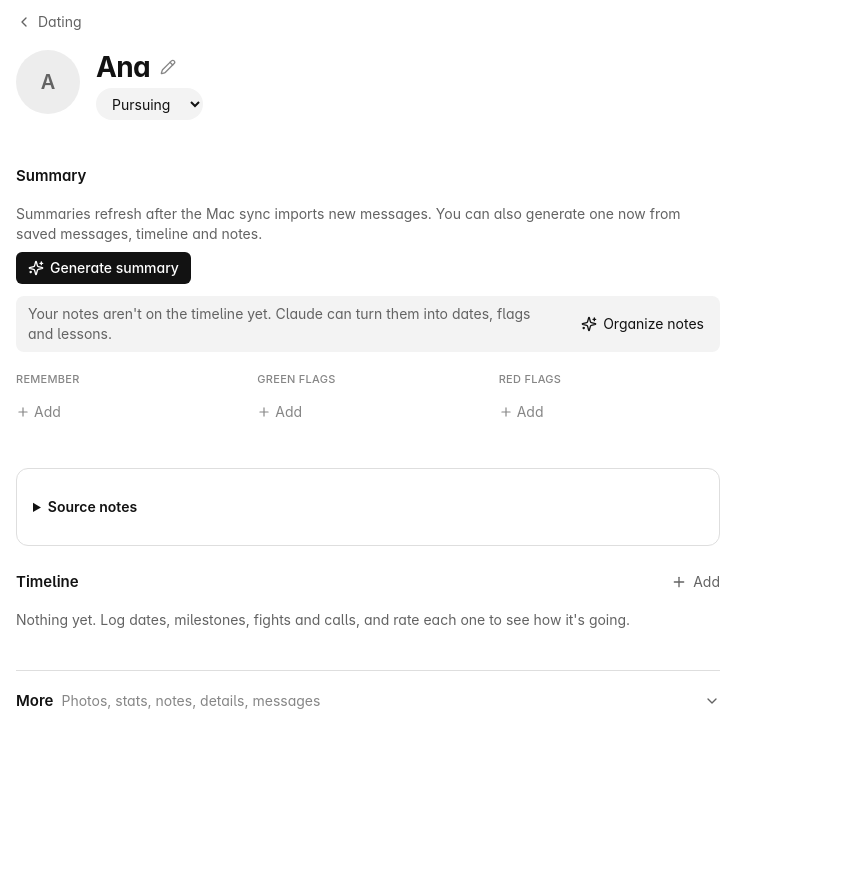
Test: dating request recovery › retries organizing after a rejected request
Click the button "Organize notes" at [643, 324], box [571,308,714,340]
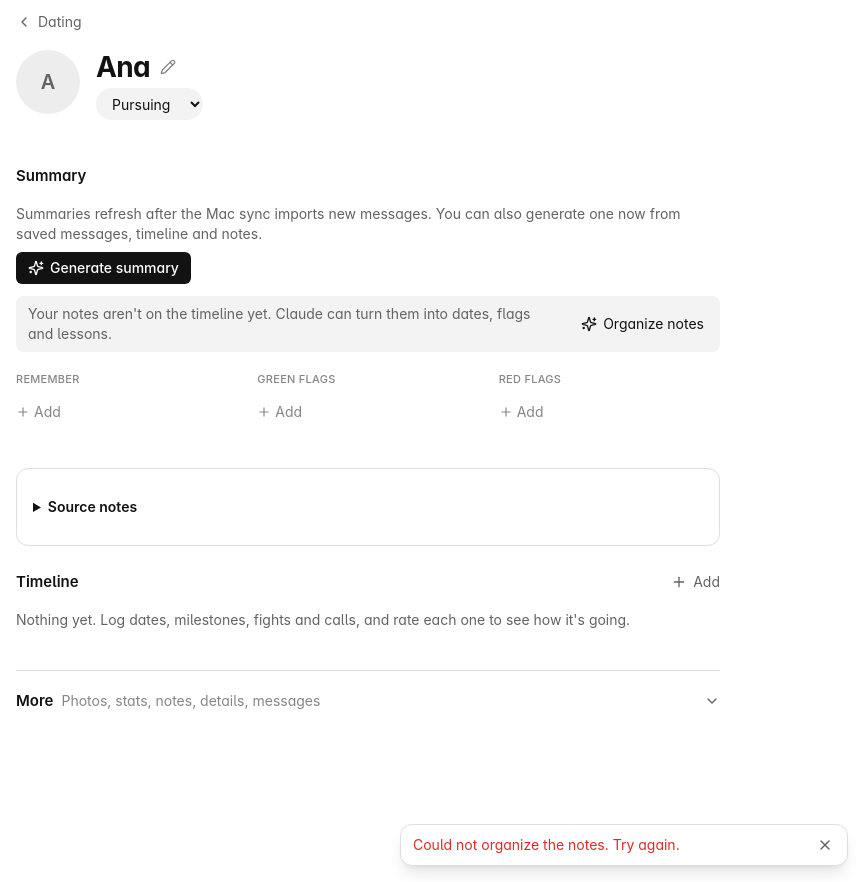
Result: the message "Could not organize the notes. Try again." is shown at [400,824,848,866]
Click the button "Organize notes" at [643, 324], box [571,308,714,340]
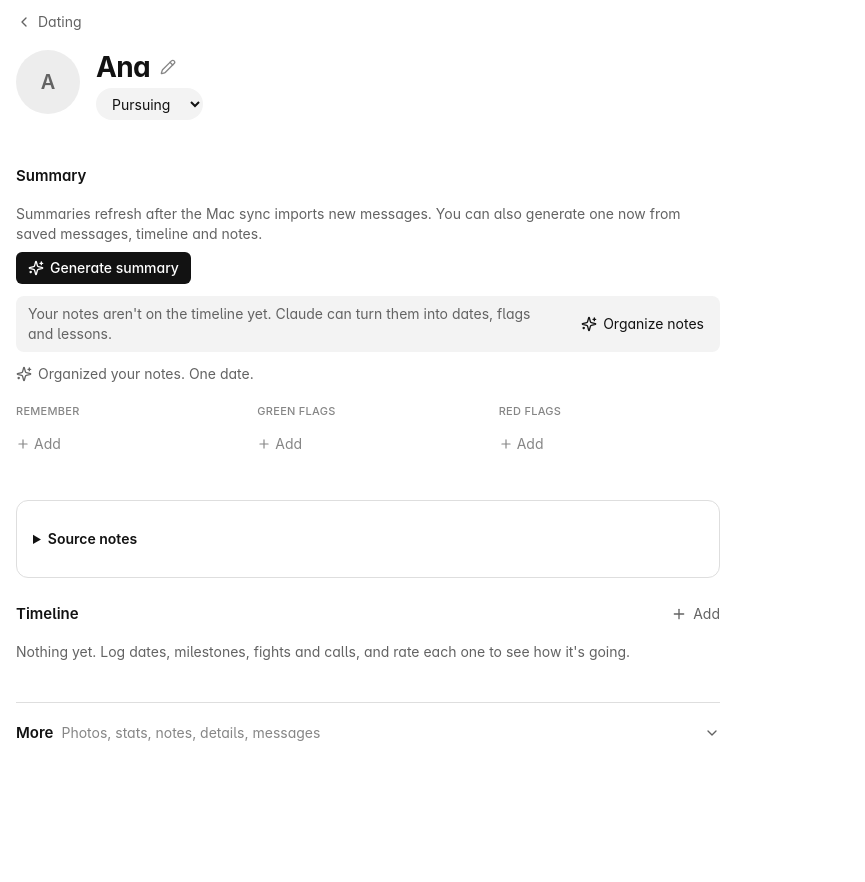
Result: the message "Organized your notes. One date." is shown at [16,365,254,382]
